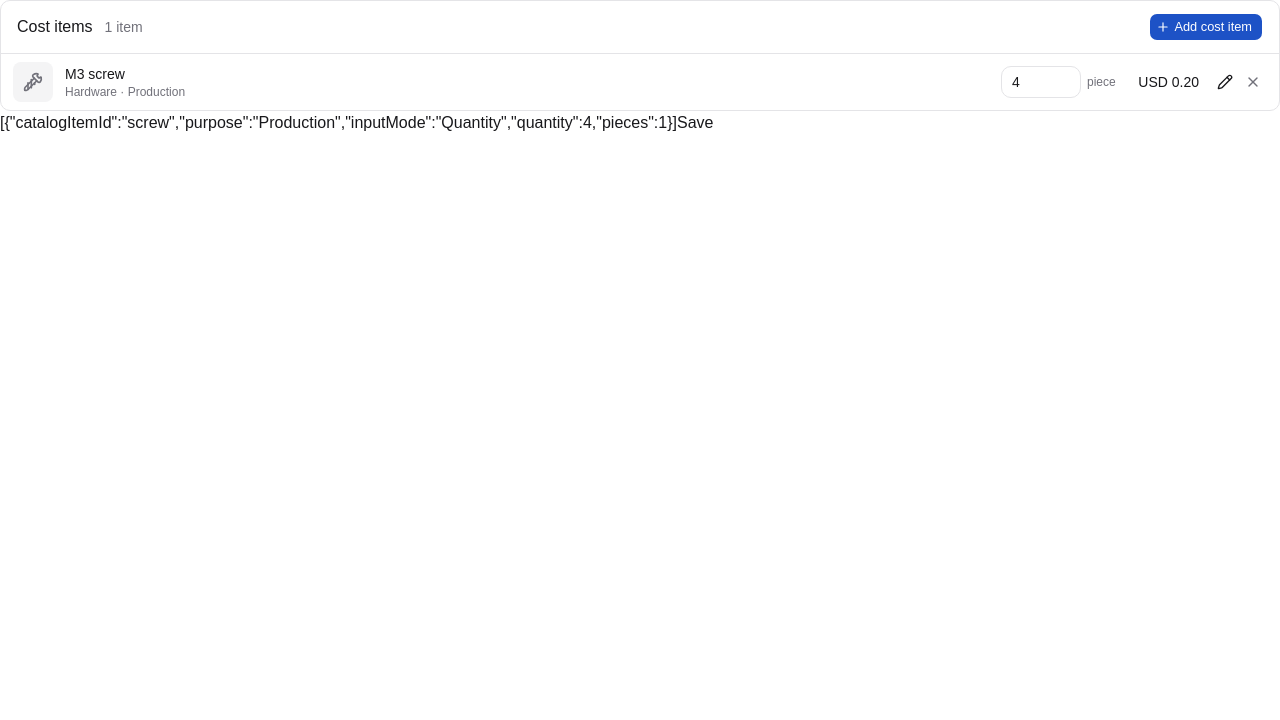
Test: CostItemsEditor › disables items already added or still in Structure
Check: the text "Hardware · Production" is shown, box [65,85,185,99]
Step 1. Click the button "Add cost item" → [1206, 27], box [1150,13,1263,41]
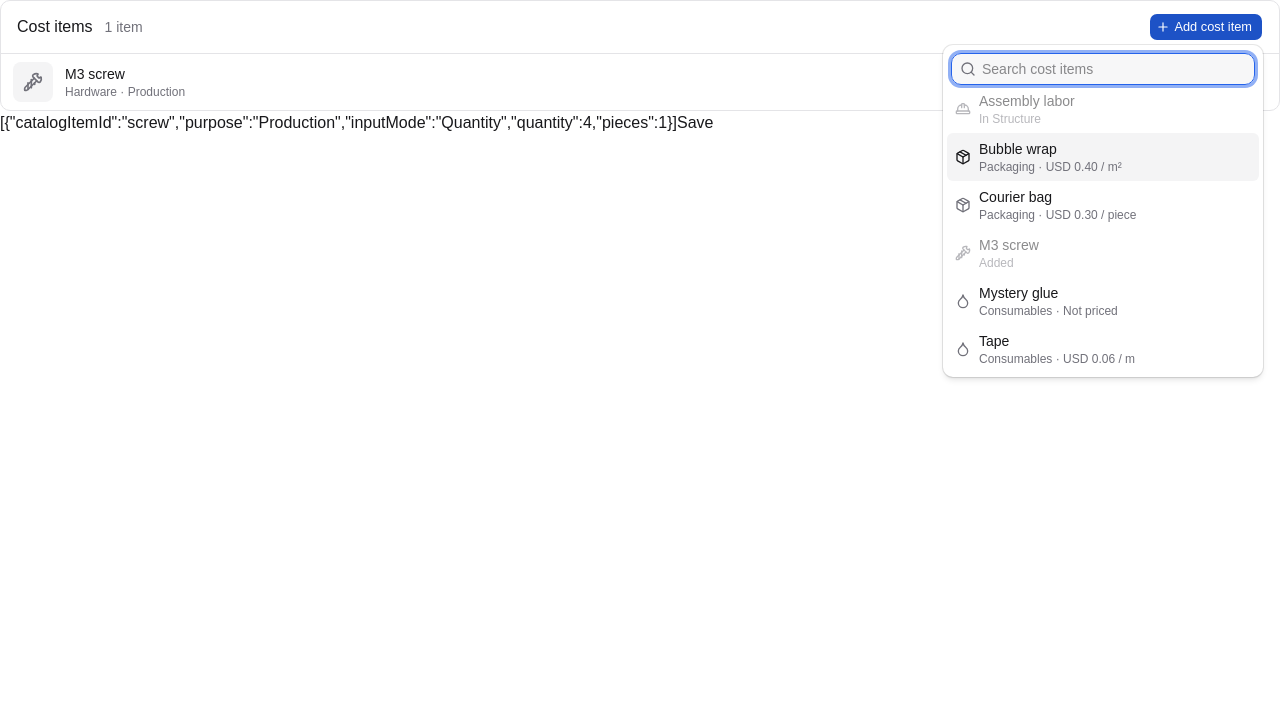
Check: the option "M3 screw Added" is shown, box [955,237,1039,270]
Check: the option "Assembly labor In Structure" is shown, box [955,93,1075,126]
